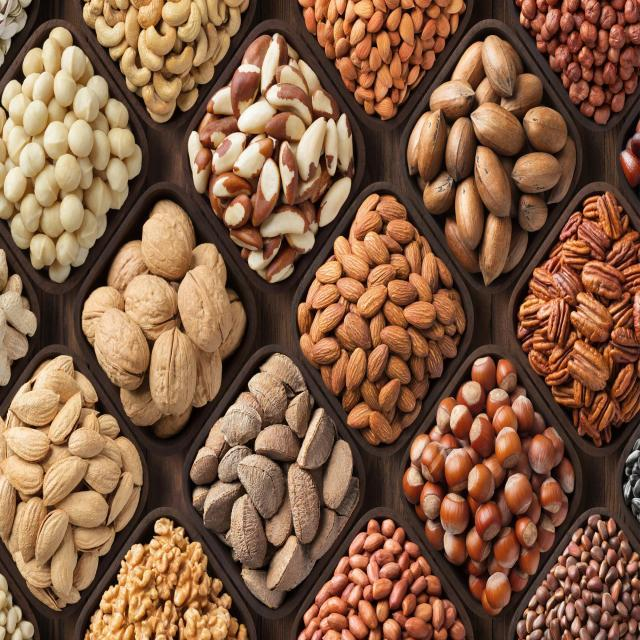Frutta secca: (415, 375, 581, 615), (305, 192, 459, 440), (196, 368, 358, 594), (2, 27, 142, 274), (2, 354, 139, 606), (420, 42, 563, 274), (196, 41, 347, 254), (88, 210, 230, 408), (521, 200, 639, 438), (76, 511, 246, 639), (84, 1, 250, 128), (288, 3, 470, 115), (296, 524, 466, 640)
